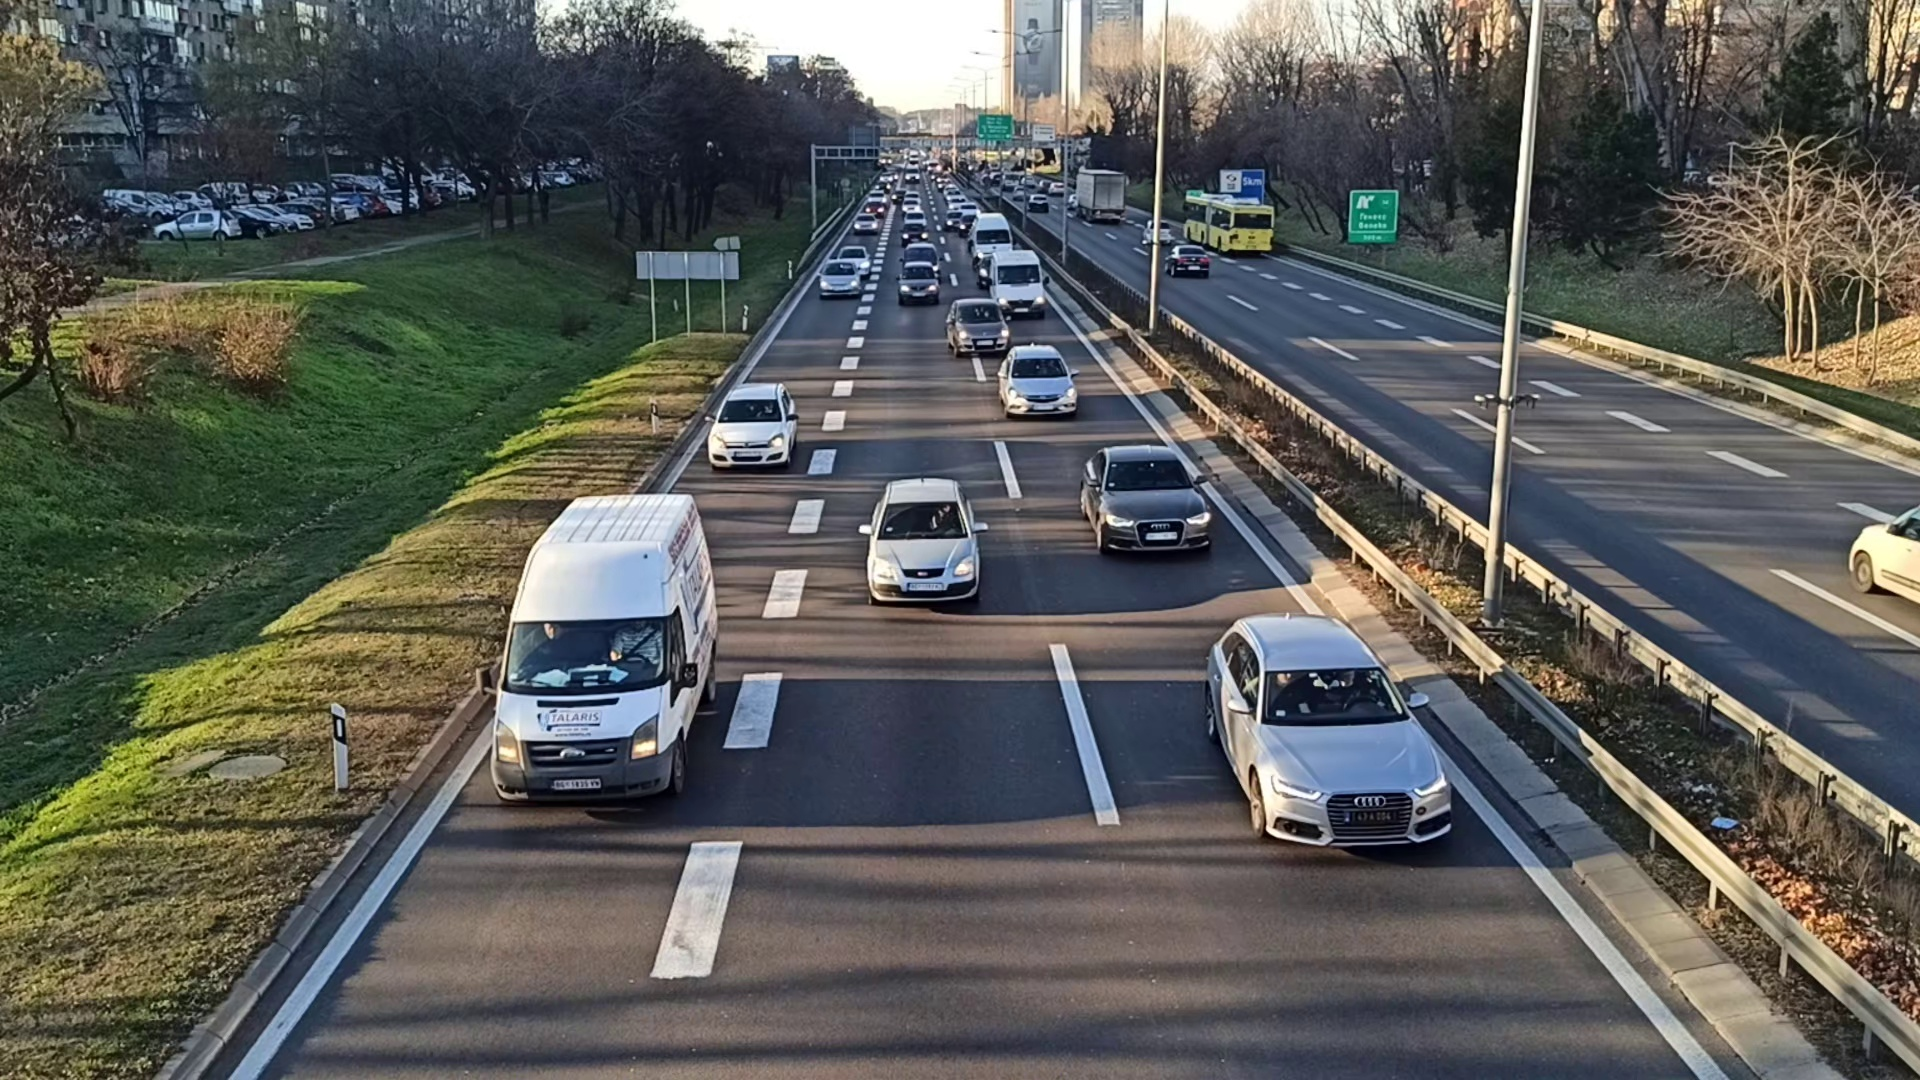bus: (1180, 193, 1276, 256)
car: (1207, 611, 1455, 858), (1083, 444, 1217, 564), (865, 479, 980, 599), (709, 385, 796, 469), (996, 345, 1075, 423), (947, 297, 1009, 357), (897, 264, 940, 301), (820, 262, 862, 295), (851, 214, 880, 233), (902, 222, 927, 244)
van: (489, 496, 719, 814), (990, 251, 1043, 316)
